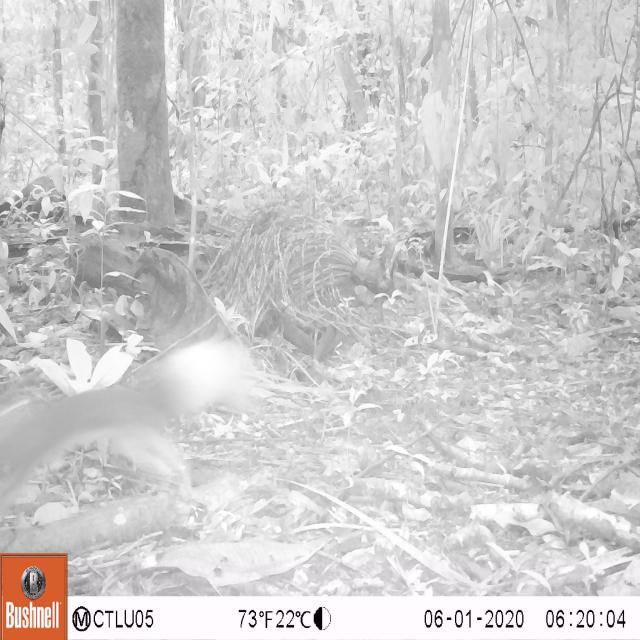Squirrel: (0, 330, 276, 516)
